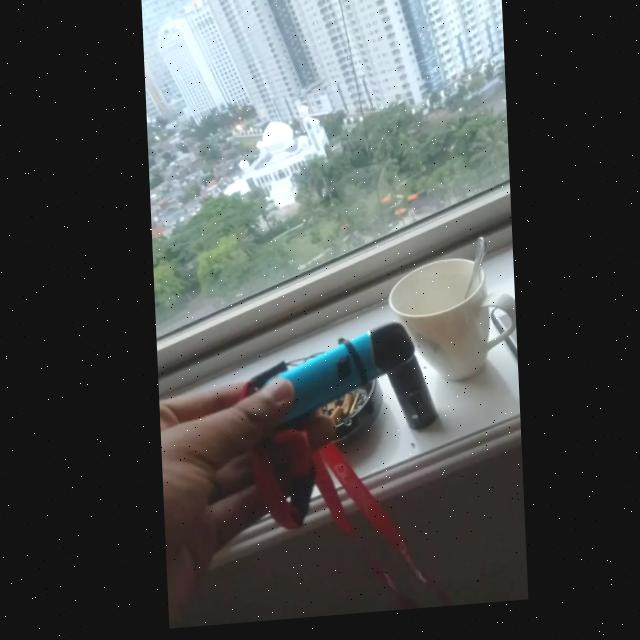vape: (246, 324, 414, 423)
